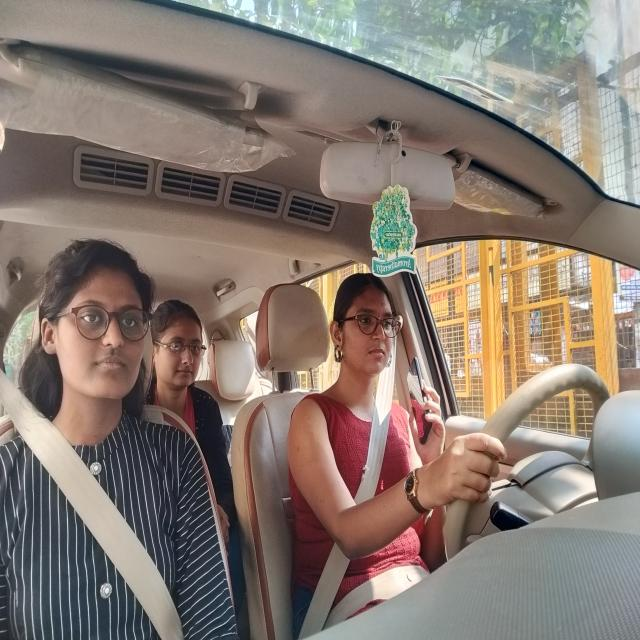mobile: (406, 357, 434, 447)
person: (38, 235, 152, 407), (330, 269, 401, 386), (154, 293, 208, 397)
